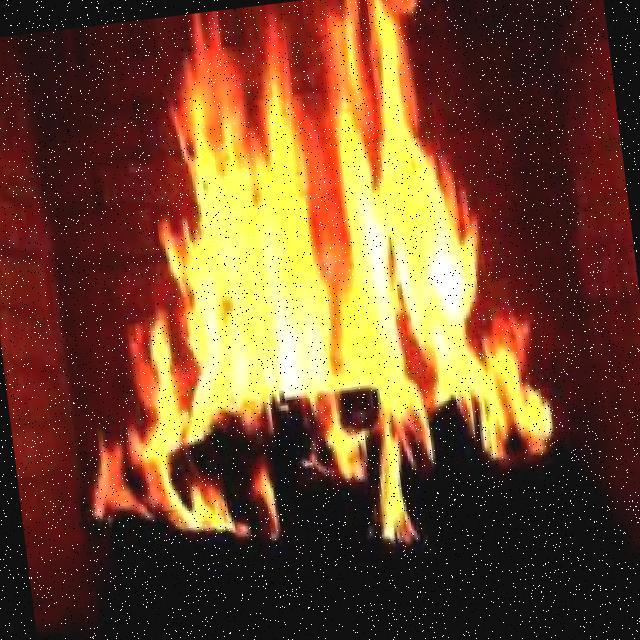Fire: (133, 39, 541, 486)
